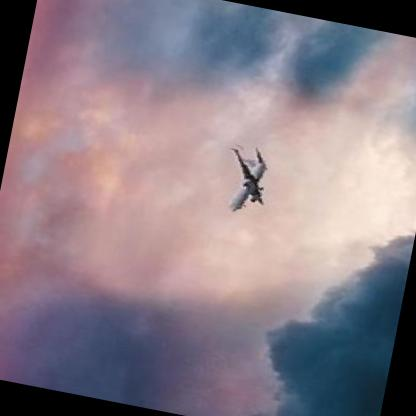plane: (211, 137, 290, 222)
